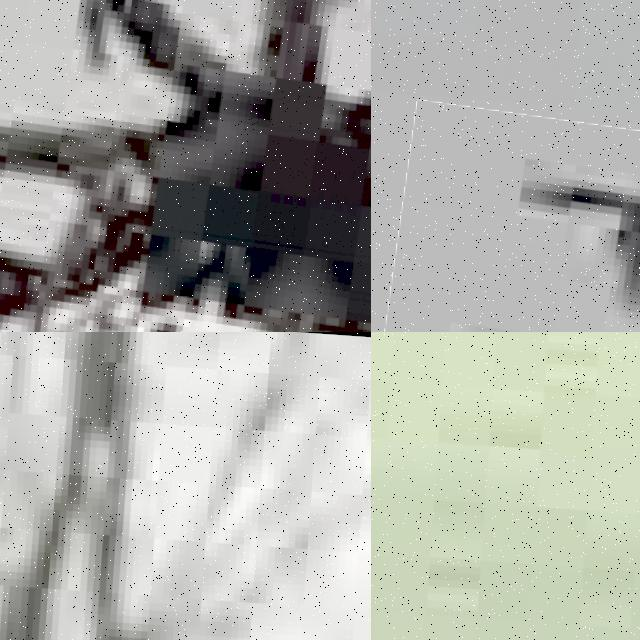drone: (0, 0, 371, 332), (380, 102, 640, 332)
